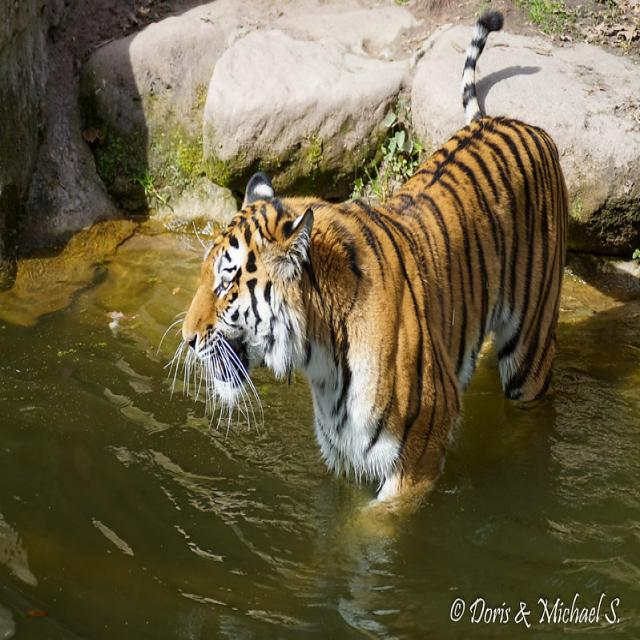Tiger: (179, 102, 627, 515)
